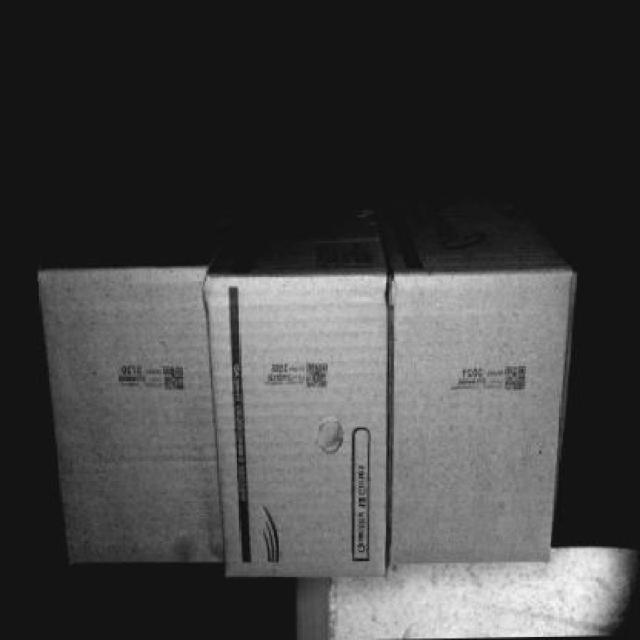cardboxes: (385, 266, 573, 571), (219, 276, 387, 582), (51, 269, 215, 568)
